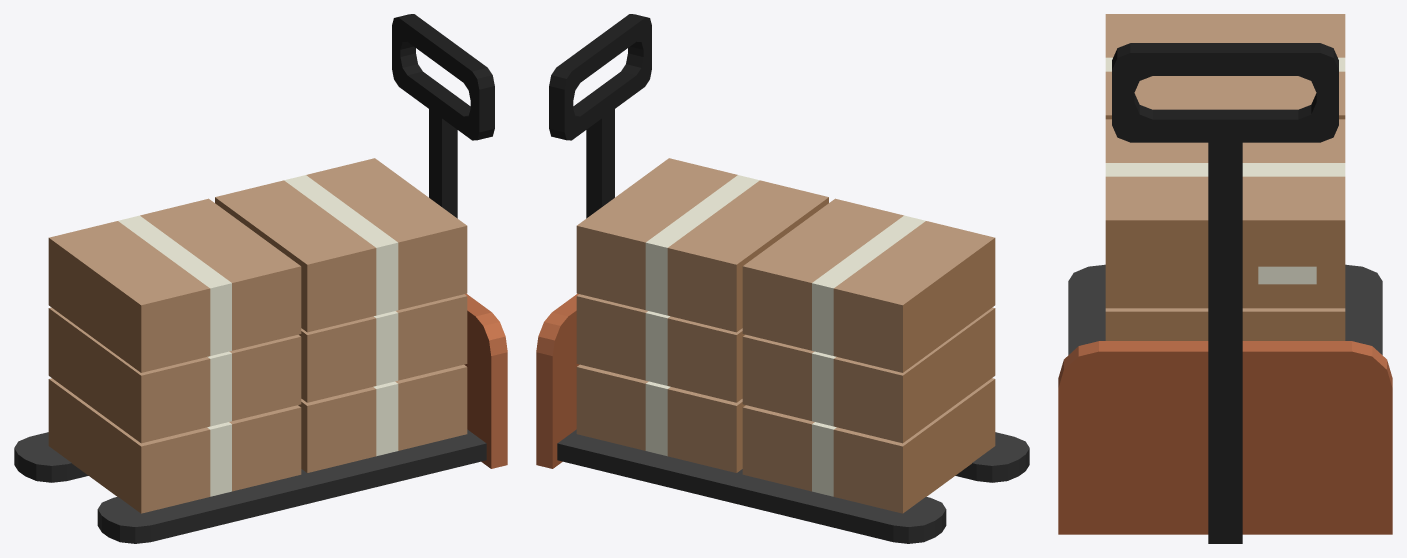
File: pallettruck.dae
3 renders of one model, left to right at view 1: azimuth 30°, elevation 25°; view 2: azimuth 150°, elevation 25°; view 3: azimuth 270°, elevation 25°, orthographic. The views are drawn at different scales.
Visible parts, largest first — view 1: B2, Clark.002; view 2: B2, Clark.002; view 3: Clark.002, B2.
Boxes of the visible parts, left/top/right/bottom form: B2: left=48, top=158, right=467, bottom=513; Clark.002: left=14, top=14, right=507, bottom=543; B2: left=576, top=158, right=995, bottom=513; Clark.002: left=536, top=14, right=1029, bottom=543; Clark.002: left=1058, top=43, right=1392, bottom=543; B2: left=1105, top=14, right=1345, bottom=340.
Size of the model in its own units: 1.03 by 0.5916 by 0.9594.
1 material, 1 textured.
